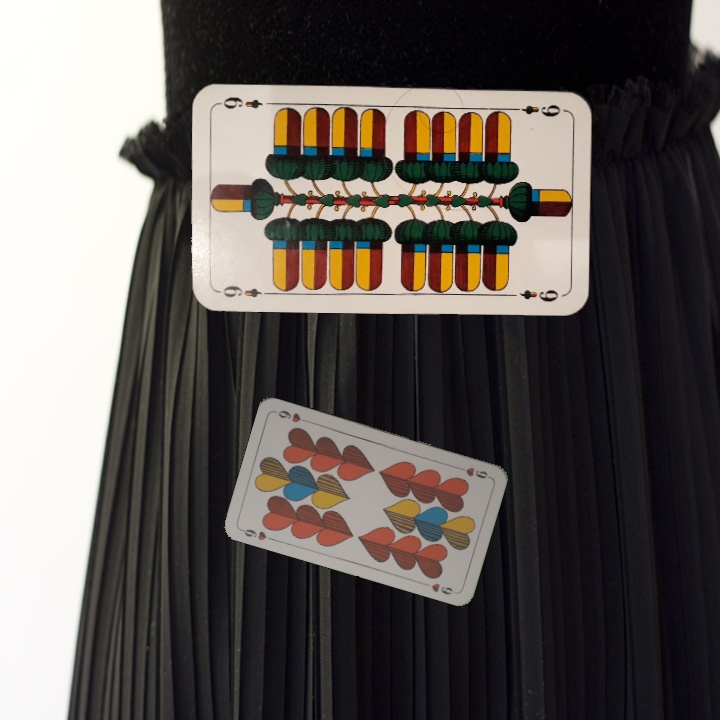E9: (214, 281, 273, 300), (507, 100, 563, 119)
H9: (452, 462, 492, 481), (237, 525, 277, 544)
